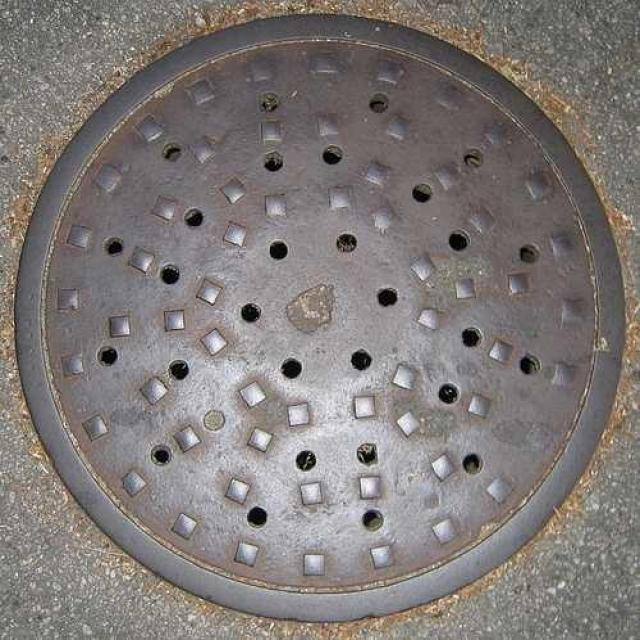manhole: (16, 16, 624, 620)
